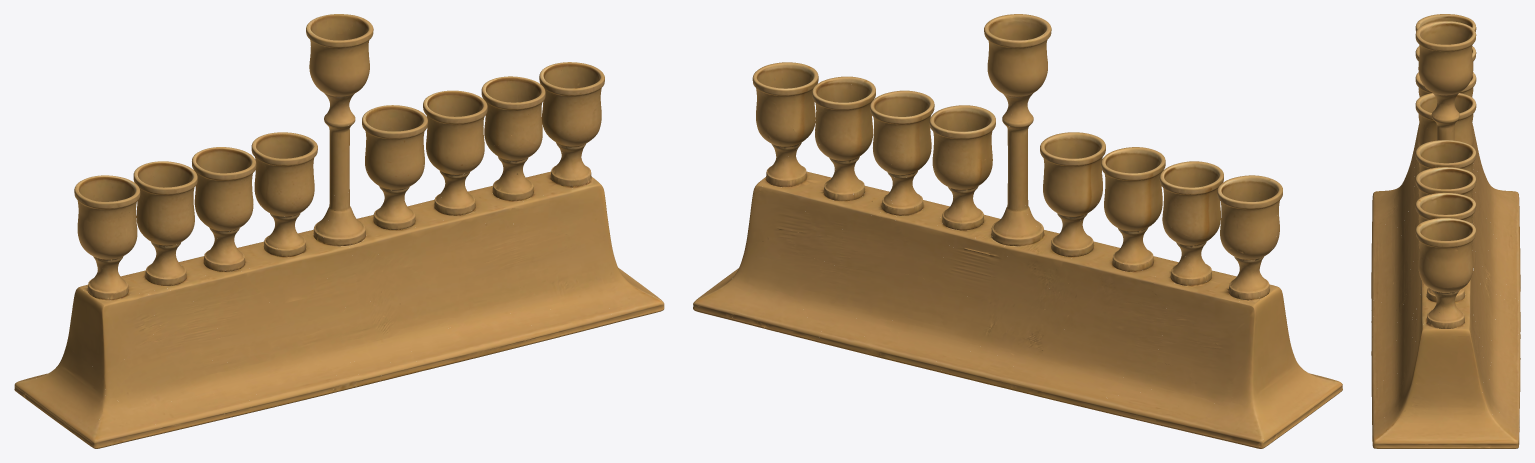
Rendered from hanukkiah.glb.
3 views of the same model, side by side, from view 1: azimuth 30°, elevation 25°; view 2: azimuth 150°, elevation 25°; view 3: azimuth 270°, elevation 25° (orthographic). The views are drawn at different scales.
Visible parts, largest first — view 1: tripo_node_81a4ae87-c066-437c-9b82-21312981021b; view 2: tripo_node_81a4ae87-c066-437c-9b82-21312981021b; view 3: tripo_node_81a4ae87-c066-437c-9b82-21312981021b.
Part boxes in pixels (left/top/right/bottom): tripo_node_81a4ae87-c066-437c-9b82-21312981021b: left=14, top=14, right=664, bottom=448; tripo_node_81a4ae87-c066-437c-9b82-21312981021b: left=693, top=14, right=1342, bottom=448; tripo_node_81a4ae87-c066-437c-9b82-21312981021b: left=1371, top=14, right=1520, bottom=448.
Size of the model in its own units: 0.9816 by 0.5324 by 0.2456.
Materials: 1 (1 with a texture image).
